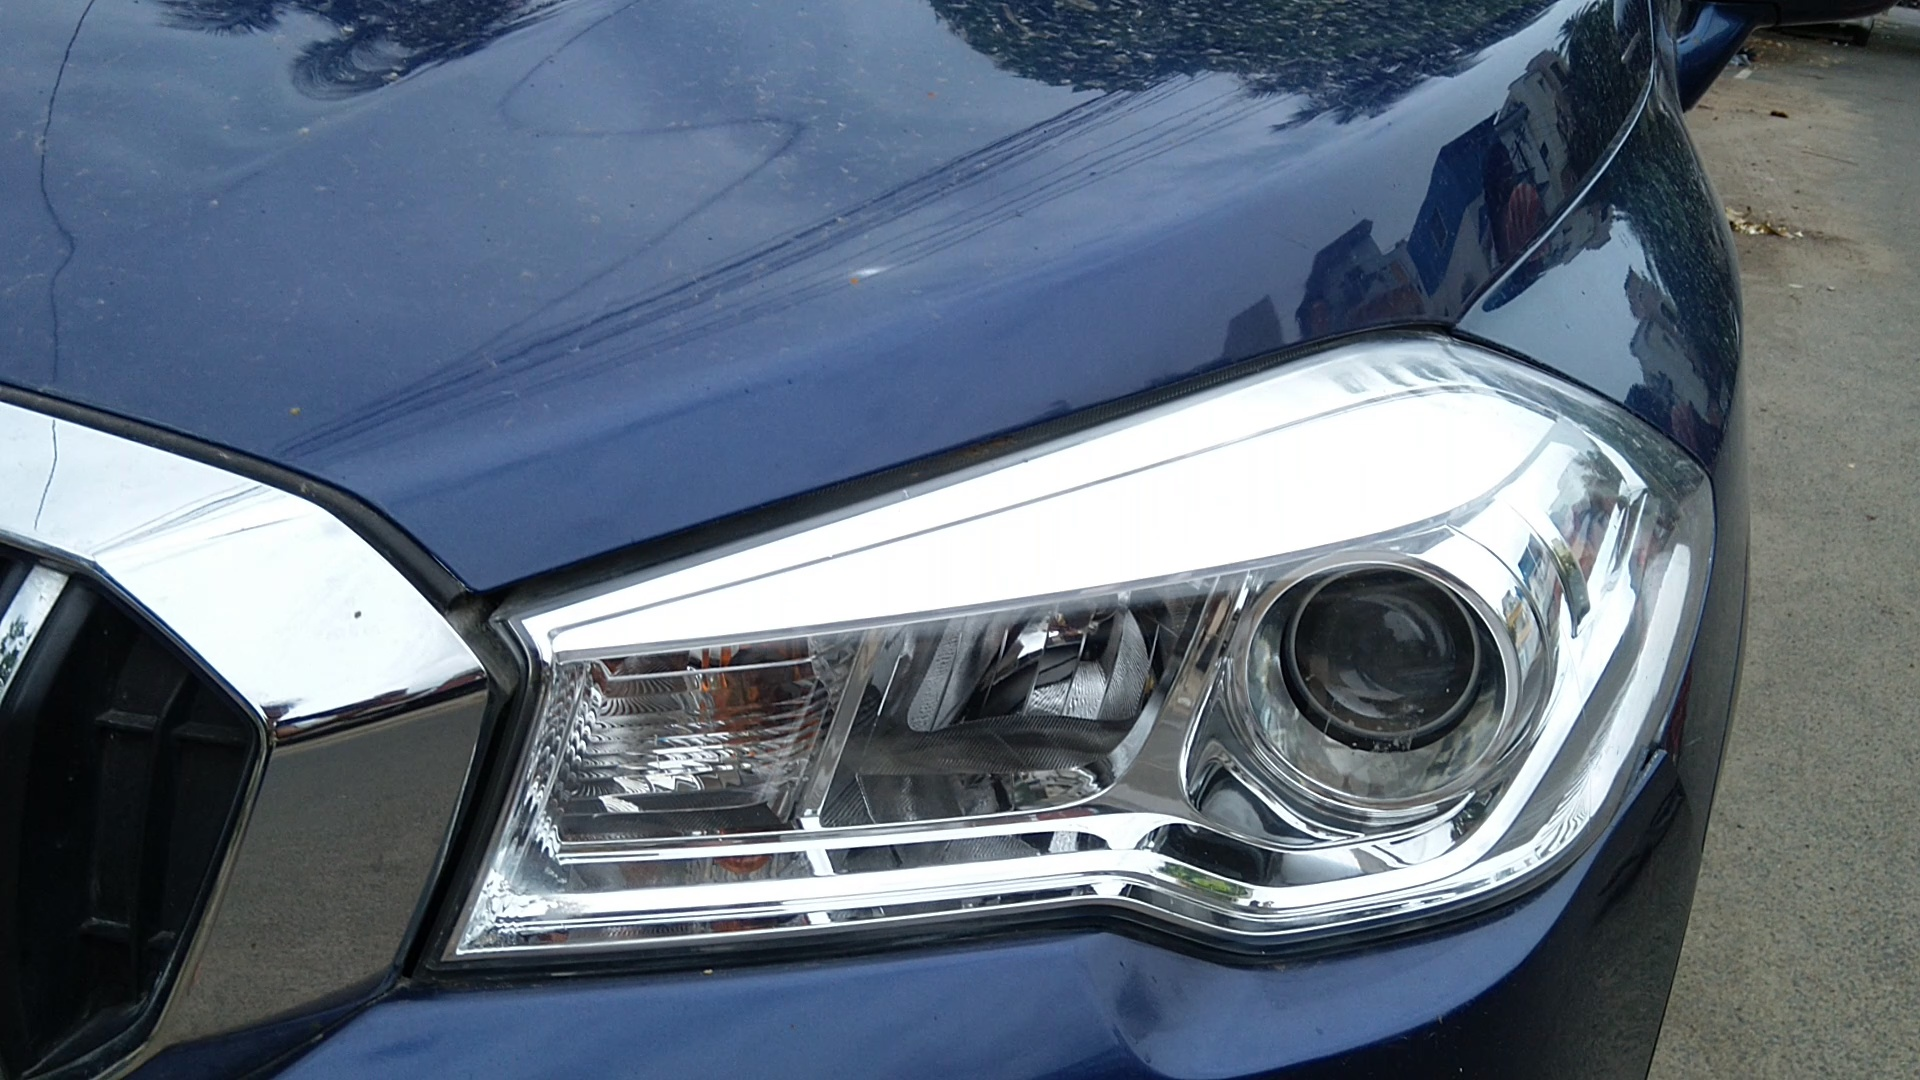headlamp: (421, 272, 1727, 1060)
